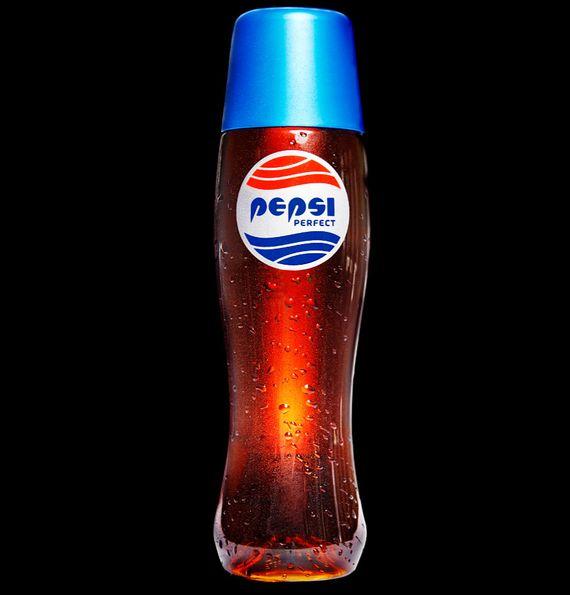pepsi: (238, 149, 350, 270)
